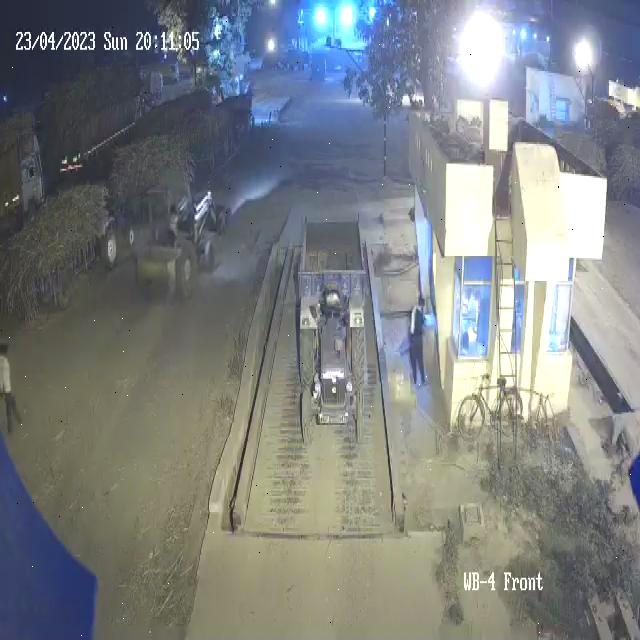Tratores - v5 YOLO V8L 2024-11-13: (288, 300, 371, 462), (162, 195, 236, 302)
